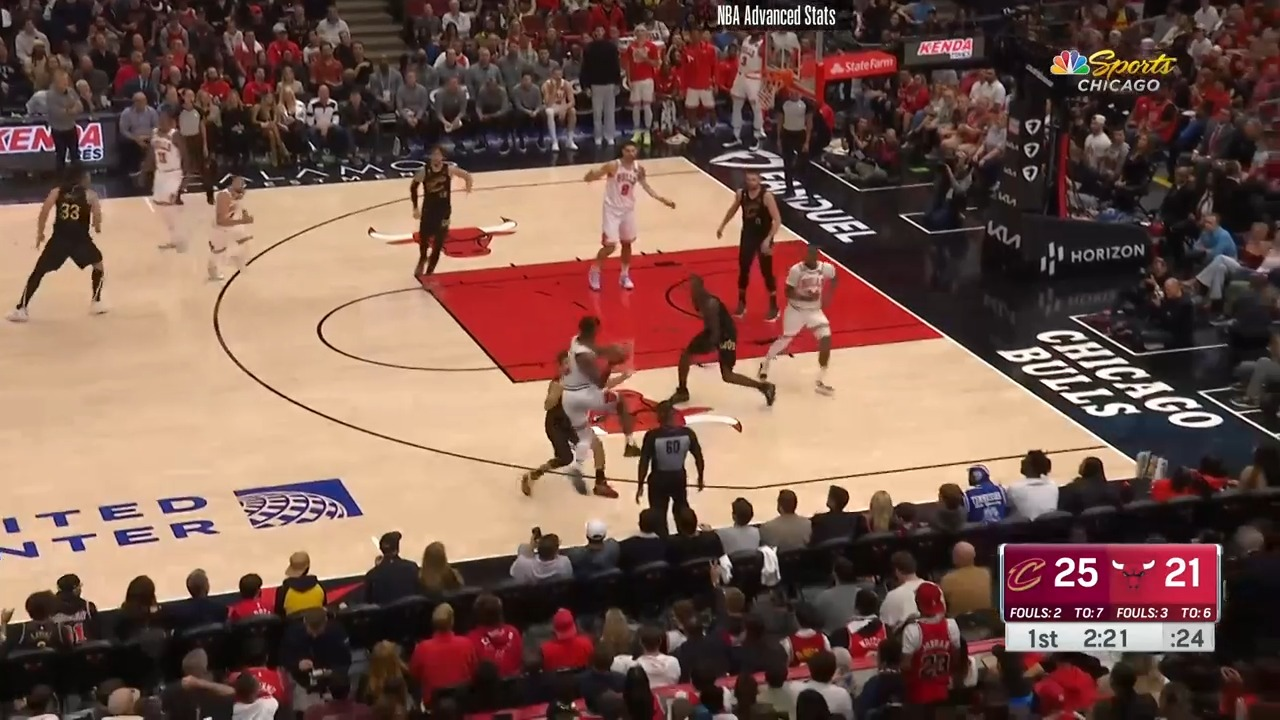net: (739, 64, 803, 113)
player: (651, 272, 773, 414), (3, 166, 111, 324), (584, 144, 685, 300), (751, 243, 844, 402), (562, 314, 637, 498), (712, 162, 787, 328), (411, 139, 472, 286), (521, 349, 573, 502), (140, 104, 193, 252), (201, 169, 258, 285)
referee: (632, 390, 712, 529), (774, 86, 822, 209)
